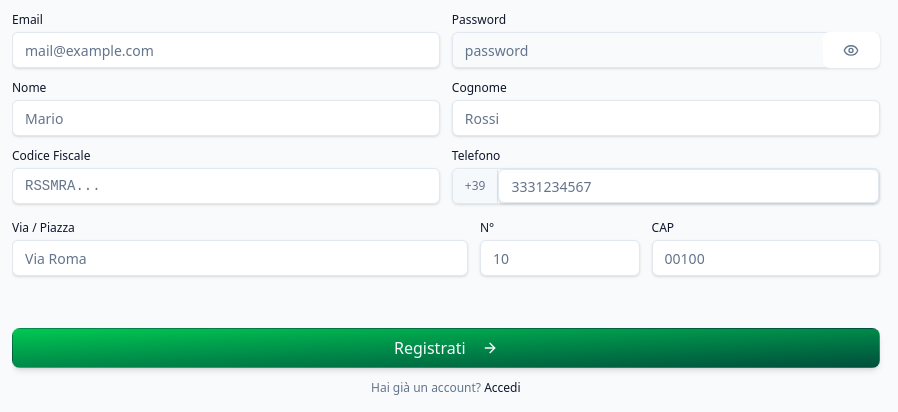
Test: RegistrationForm › automatically fetches City and Province when ZIP code is entered
This screenshot has width=898, height=412.
Type "20100" into the field labelled "CAP" at (766, 258), box [652, 240, 880, 276]
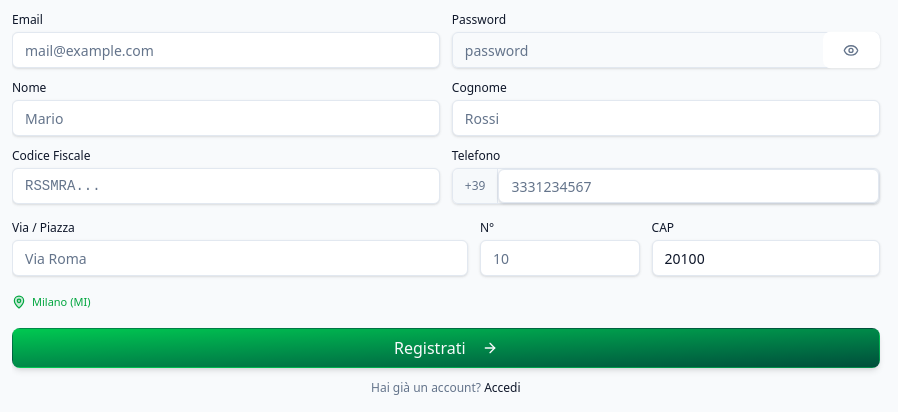
expect the text "Milano (MI)" is shown: met, box [12, 294, 90, 310]
